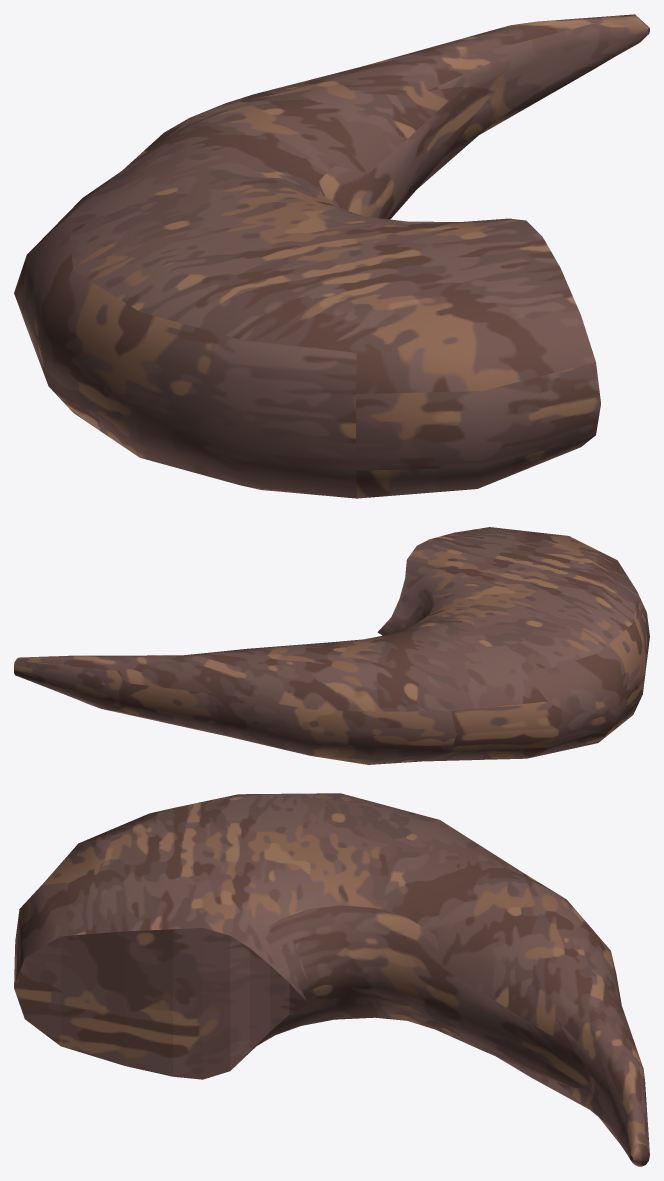
File: newttail.fbx
3 renders of one model, top to bottom at view 1: azimuth 30°, elevation 25°; view 2: azimuth 150°, elevation 25°; view 3: azimuth 270°, elevation 25°, orthographic. The views are drawn at different scales.
Visible parts, largest first — view 1: pTorus1; view 2: pTorus1; view 3: pTorus1.
Boxes of the visible parts, bbox=[...] form: pTorus1: bbox=[14, 14, 649, 498]; pTorus1: bbox=[14, 527, 649, 764]; pTorus1: bbox=[14, 793, 649, 1166].
Size of the model in its own units: 3.3 by 0.7965 by 2.78.
